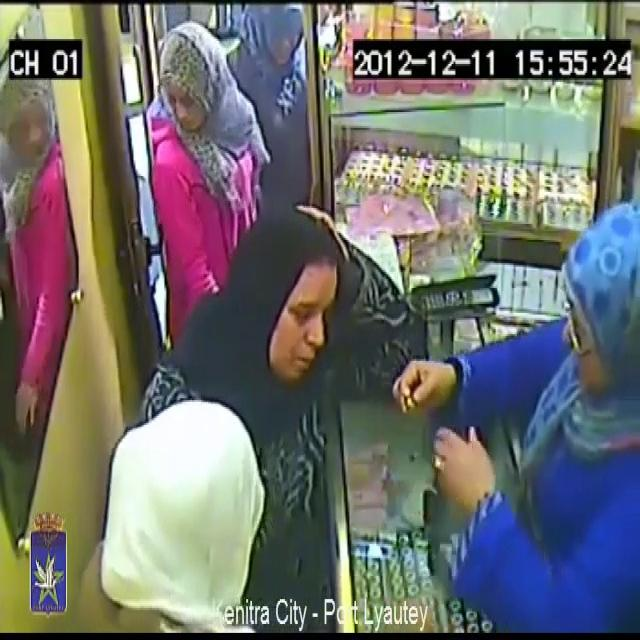normal: (411, 199, 640, 640), (76, 404, 344, 640), (133, 2, 246, 317), (211, 214, 342, 432), (228, 0, 314, 192)
